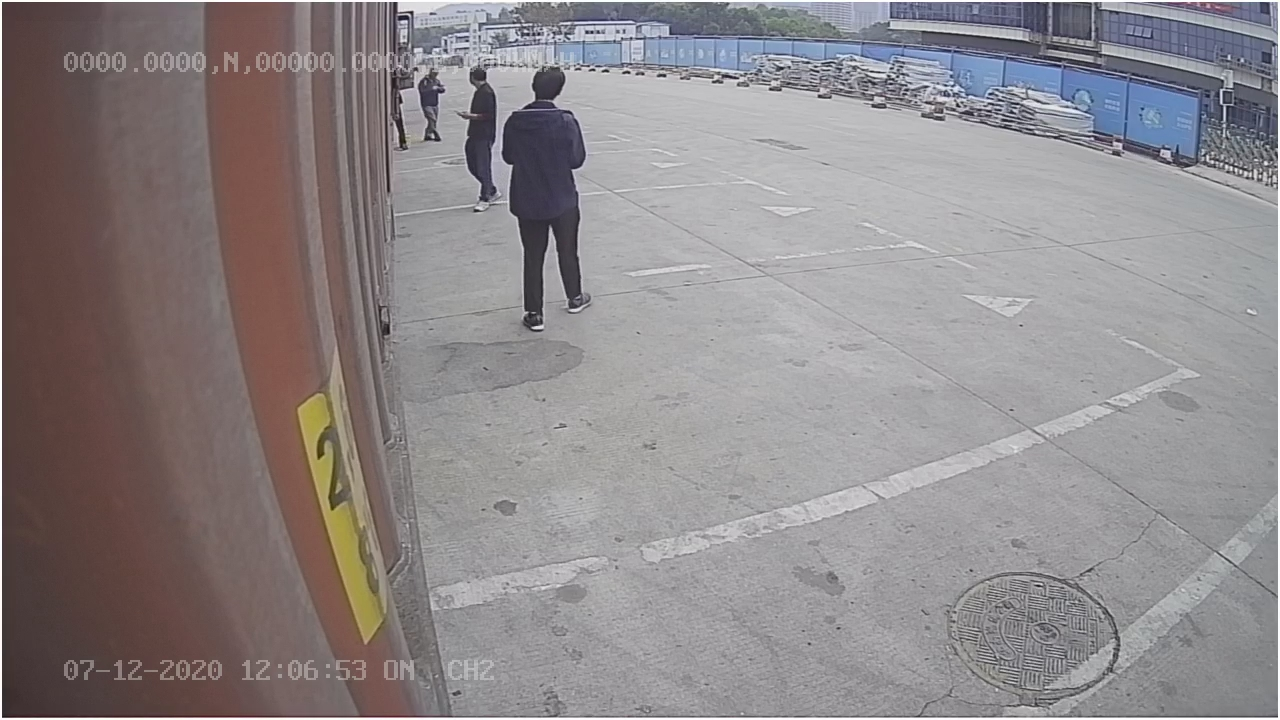person: (503, 63, 598, 333)
